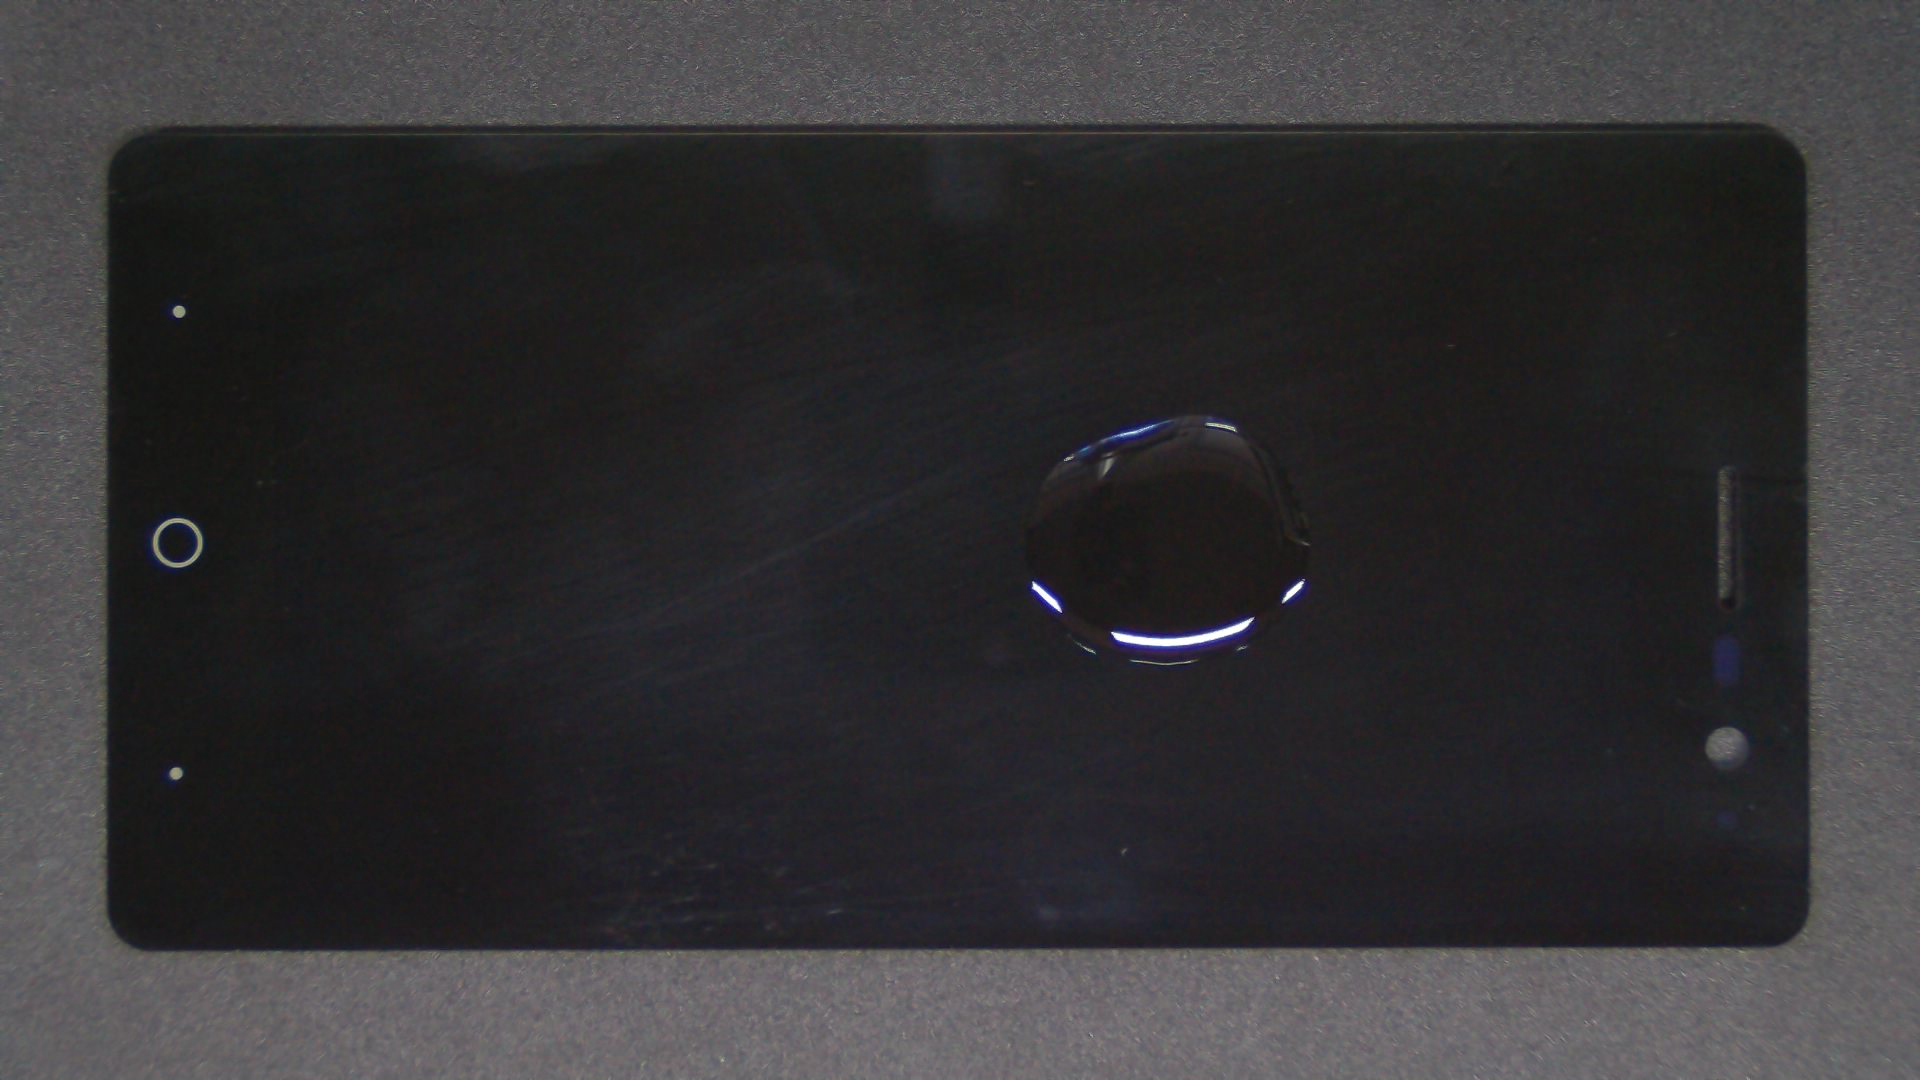defect: (1021, 413, 1313, 667)
